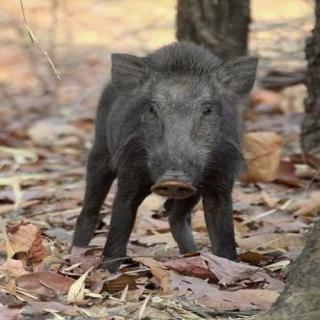Pig: (46, 38, 267, 276)
